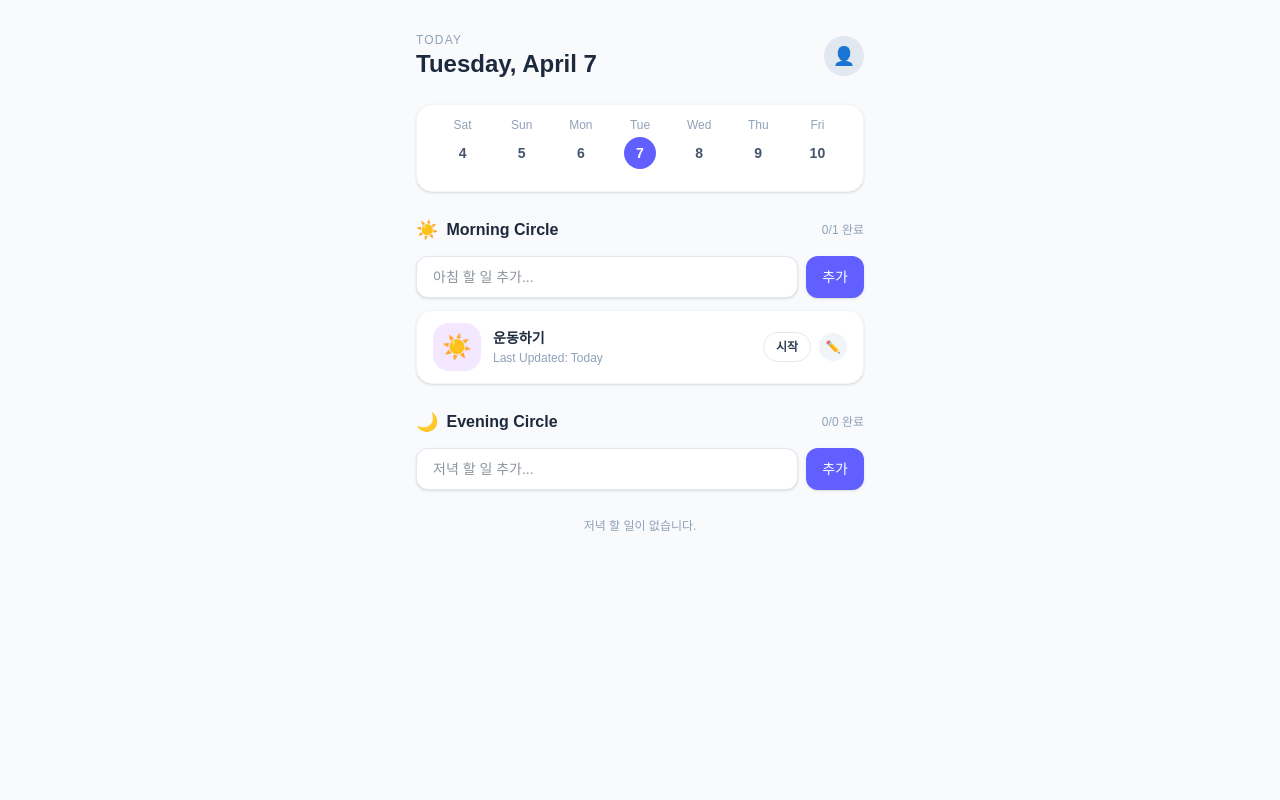
Test: Home › 모달에서 삭제 버튼을 누르면 태스크가 사라진다
Expected: the text "운동하기" is shown, [493, 330, 544, 346]
Note: 편집 모달 열기
Click the button "✏️" at (833, 347), box [819, 333, 847, 361]
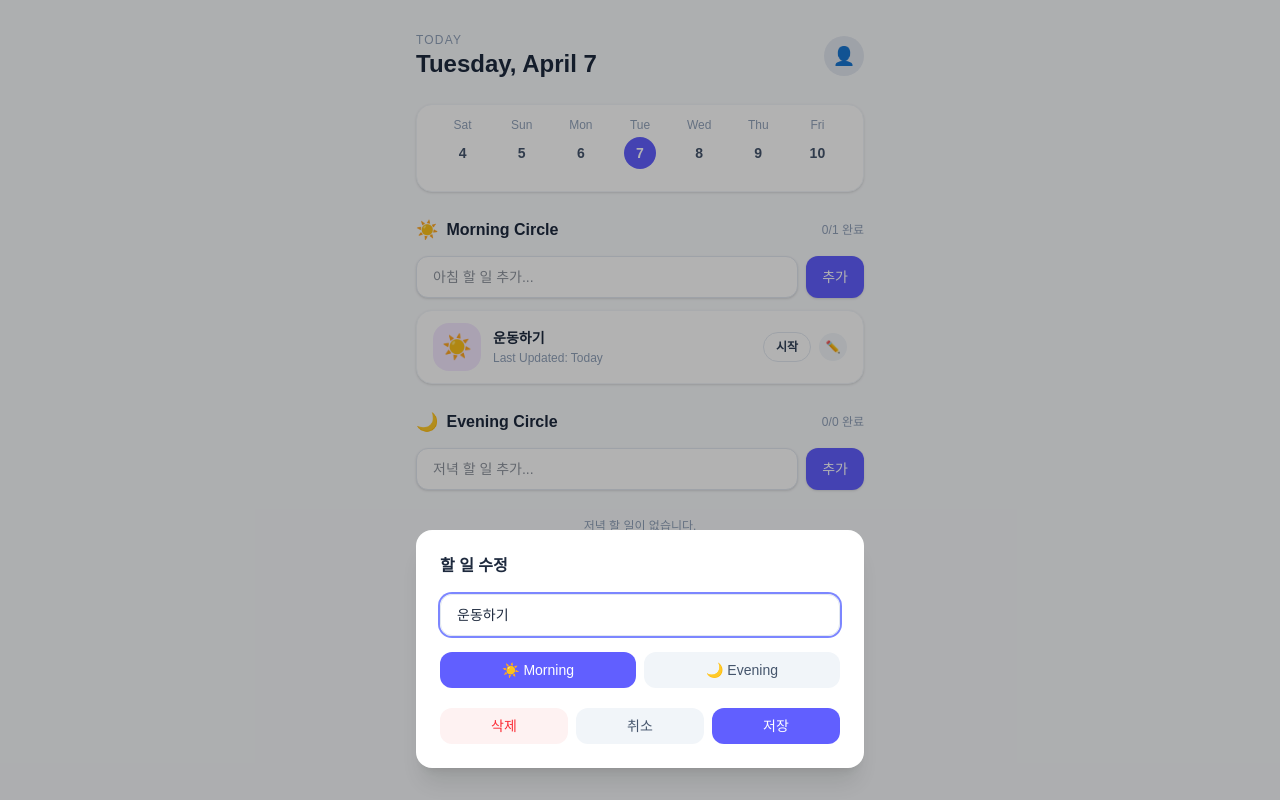
Result: the heading "할 일 수정" is shown at [440, 557, 508, 574]
Click the button "삭제" at (504, 726), box [440, 708, 568, 744]
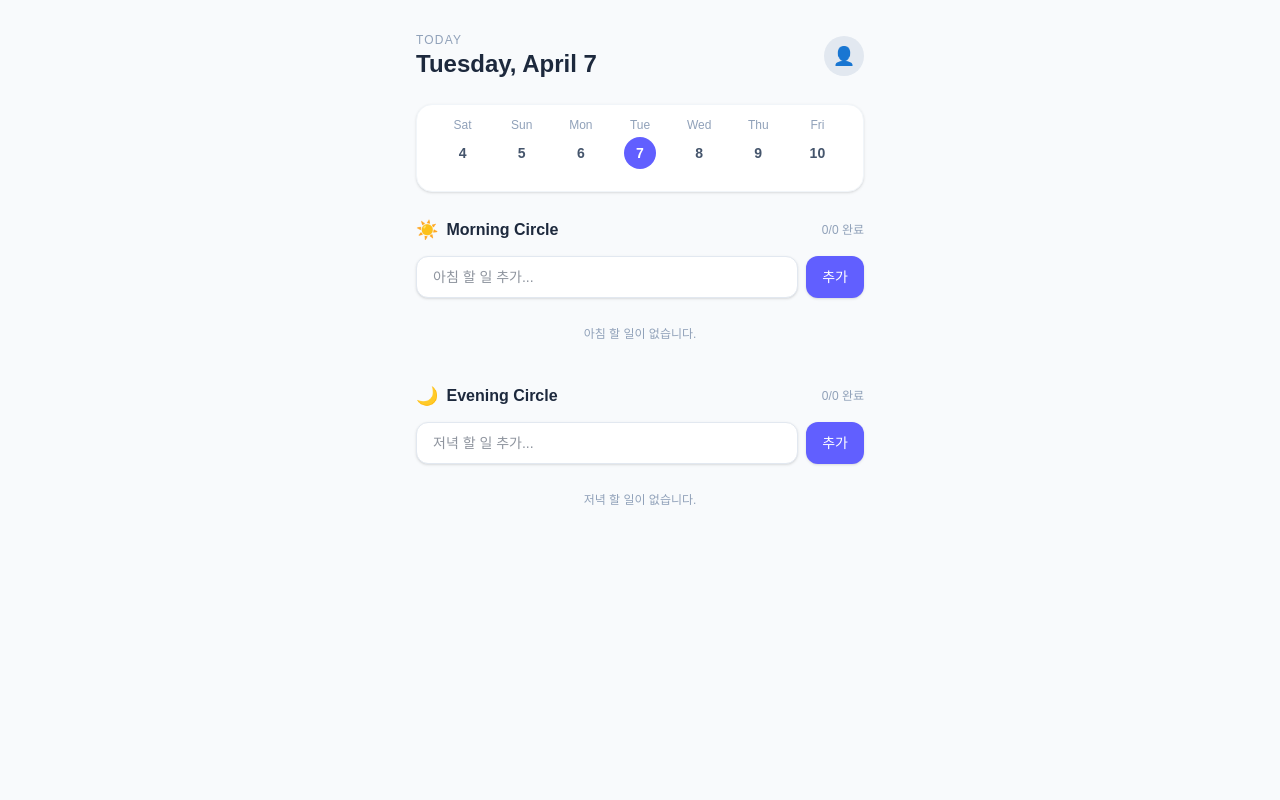
Result: the text "운동하기" is gone
Result: the text "아침 할 일이 없습니다." is shown at [584, 327, 696, 341]
